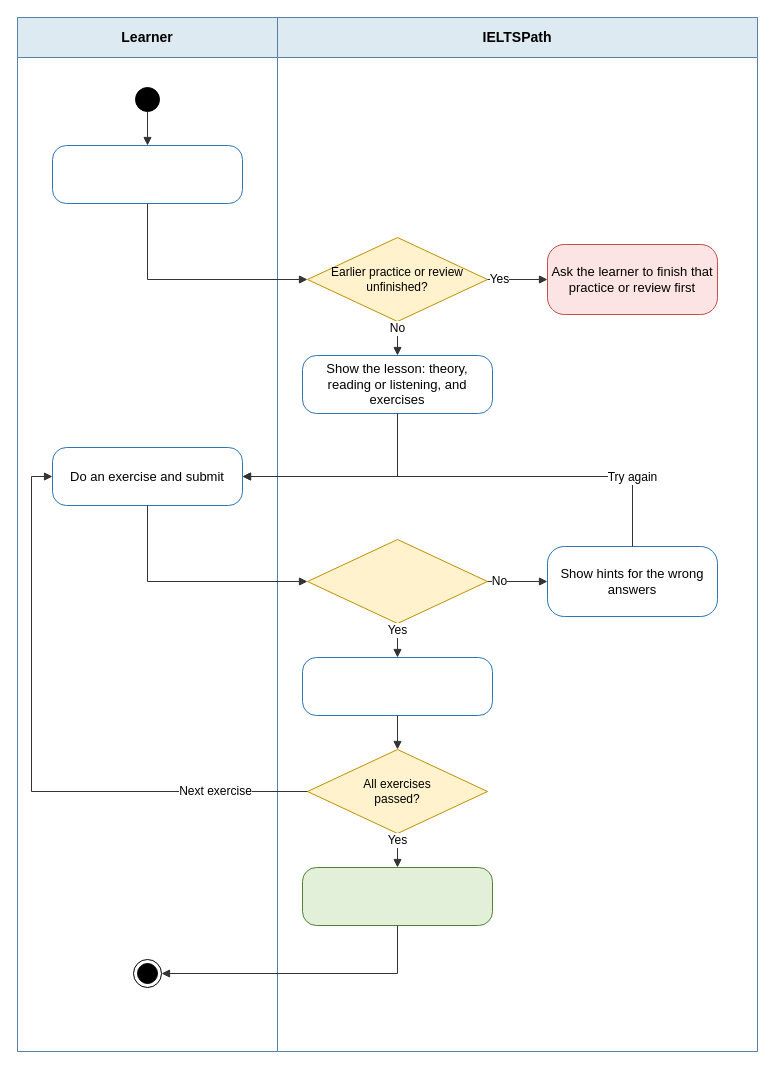
Image size: 775x1069. Some labels were removed from this diagram. Here are the shapes that lost their labels. From the top down, the centre of each, then its label:
(147,174): Open the next lesson of the topic
(397,581): At least 70% correct?
(397,686): Show the right answers and explanations
(397,896): Lesson done: open its practice
